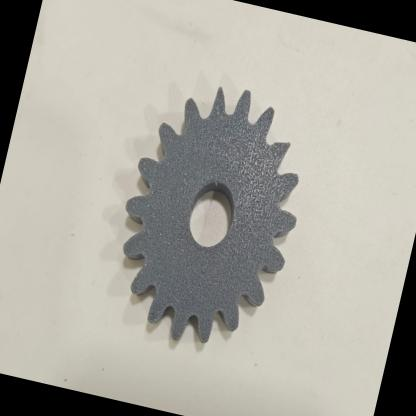defect: (243, 114, 309, 193)
gear: (64, 44, 356, 390)
